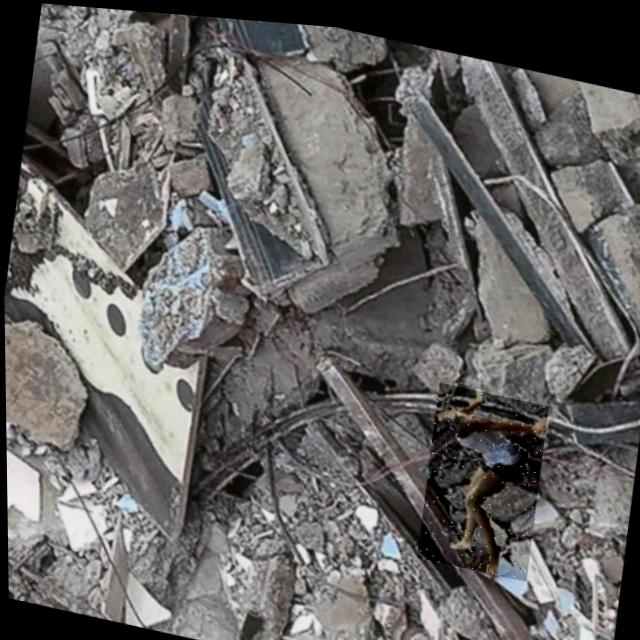Person in Rubble: (414, 371, 550, 573)
